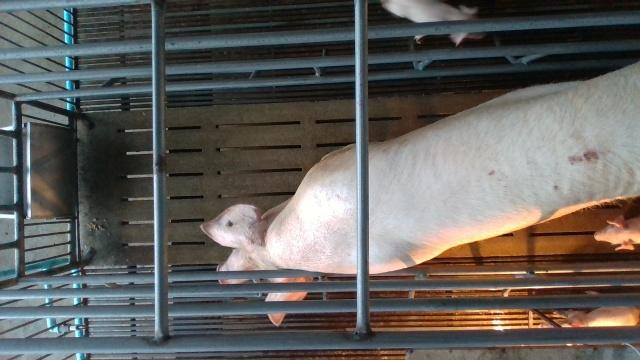piglet: (380, 0, 487, 47), (555, 291, 640, 326), (594, 216, 640, 251)
sow-stand: (200, 60, 640, 326)
